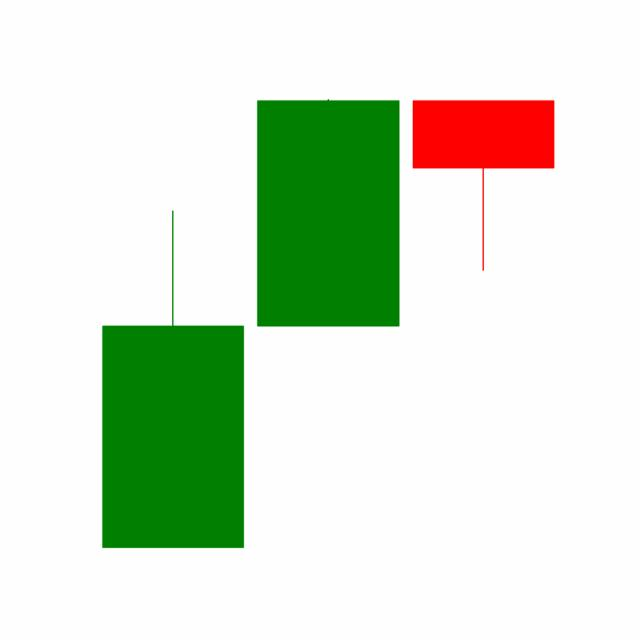Hanging Man: (405, 98, 561, 273)
